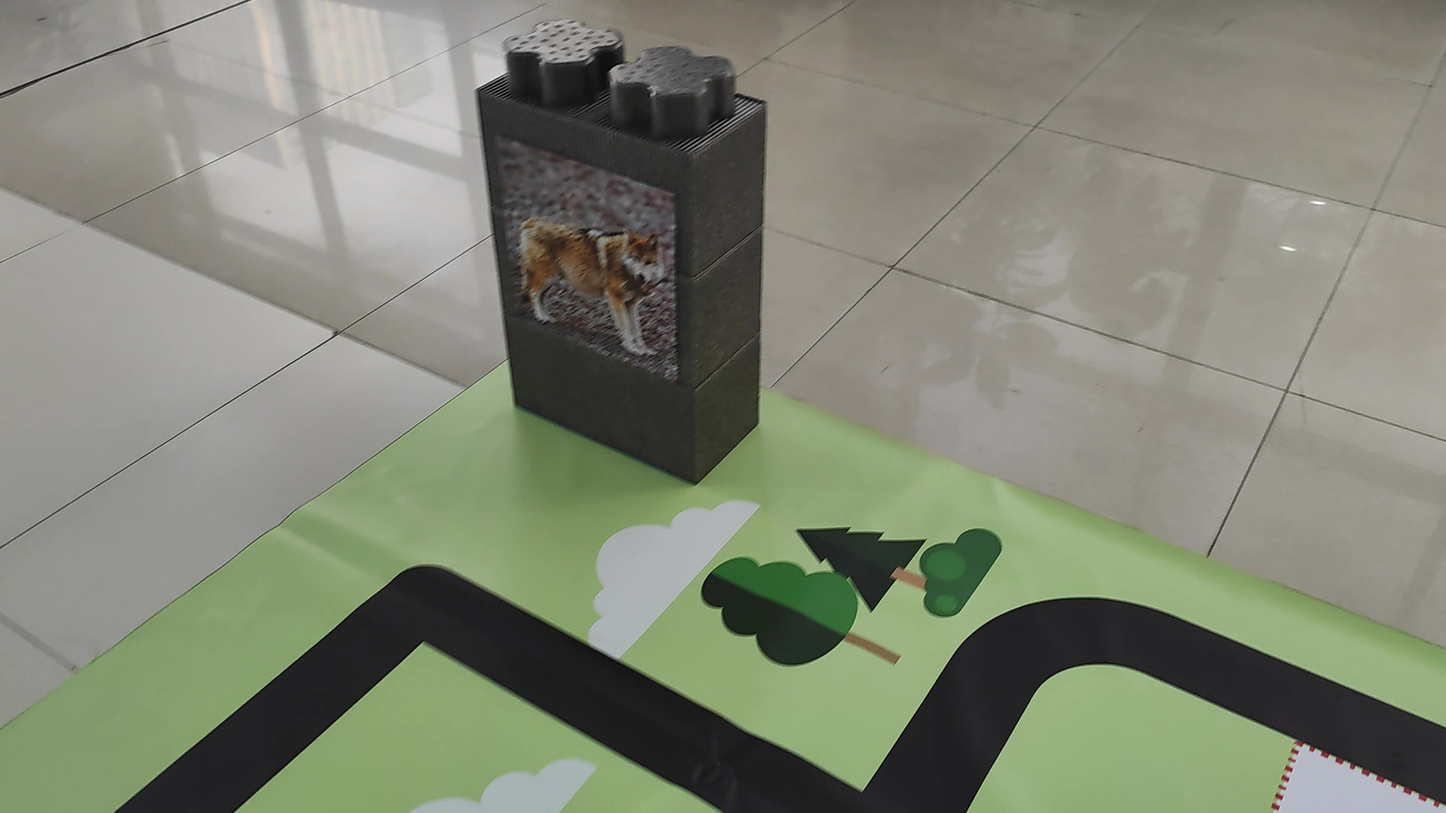wolf: (505, 145, 678, 359)
